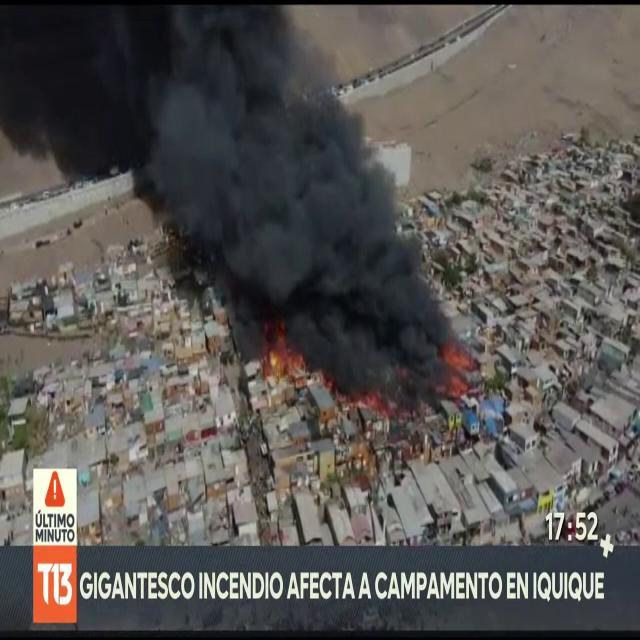Fire: (260, 331, 310, 388)
Smoke: (0, 1, 450, 390)
